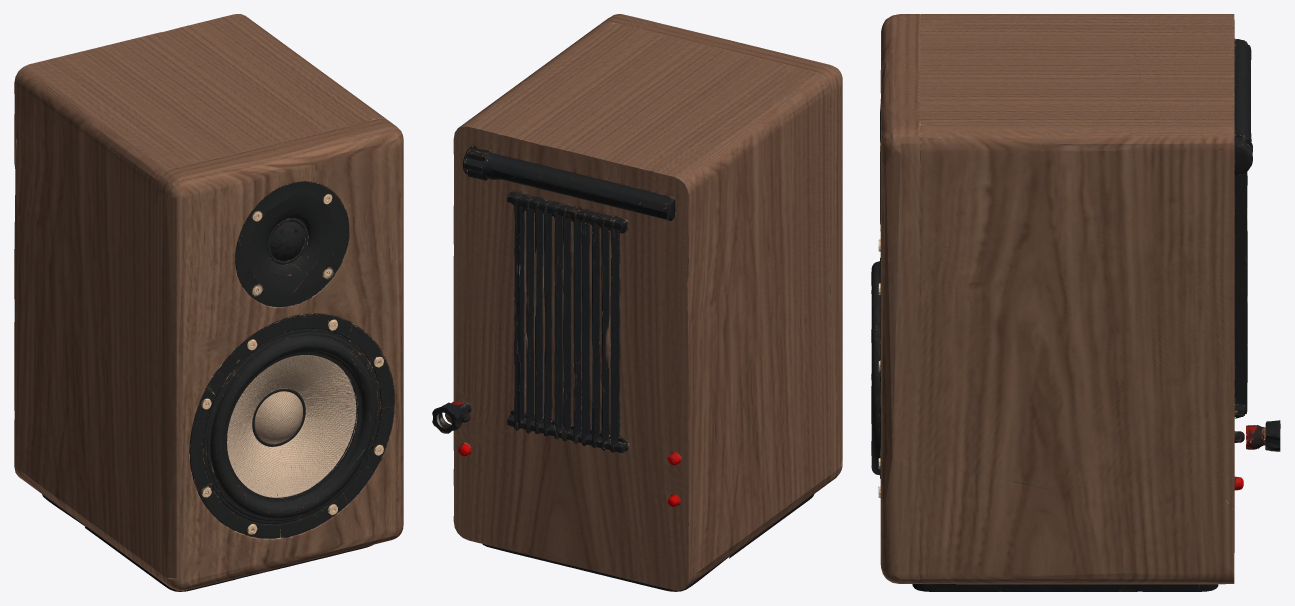
File: speaker.glb
3 renders of one model, left to right at view 1: azimuth 30°, elevation 25°; view 2: azimuth 150°, elevation 25°; view 3: azimuth 270°, elevation 25°, orthographic. The views are drawn at different scales.
Visible parts, largest first — view 1: Mesh_0; view 2: Mesh_0; view 3: Mesh_0.
Boxes of the visible parts, x1,y1,x2,y2 form: Mesh_0: [14, 14, 403, 591]; Mesh_0: [432, 14, 842, 591]; Mesh_0: [871, 14, 1280, 591].
Size of the model in its own units: 1.11 by 1.9 by 1.51.
Materials: 1 (1 with a texture image).
